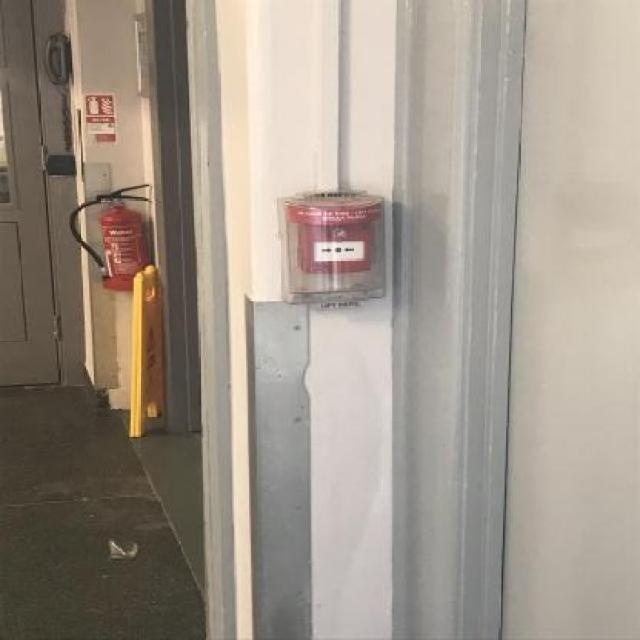fire extinguisher: (69, 182, 156, 291)
